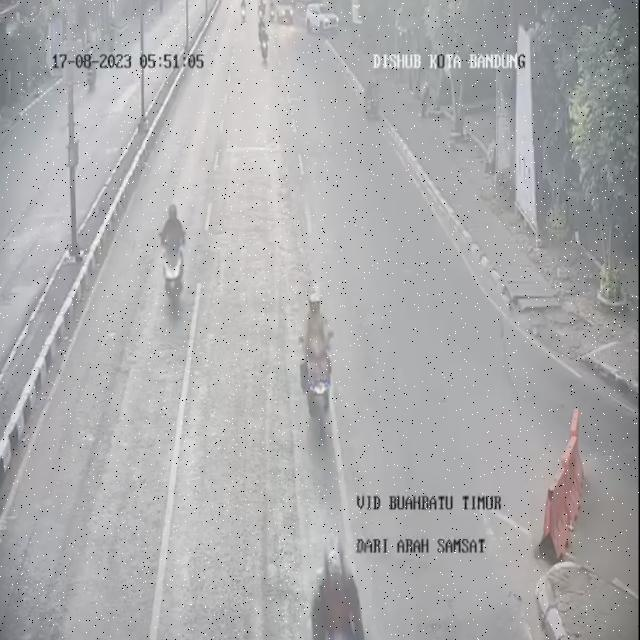motorcycle: (297, 289, 344, 440), (308, 543, 370, 640), (156, 198, 193, 316), (362, 79, 384, 126), (258, 17, 272, 67), (240, 0, 251, 21)
